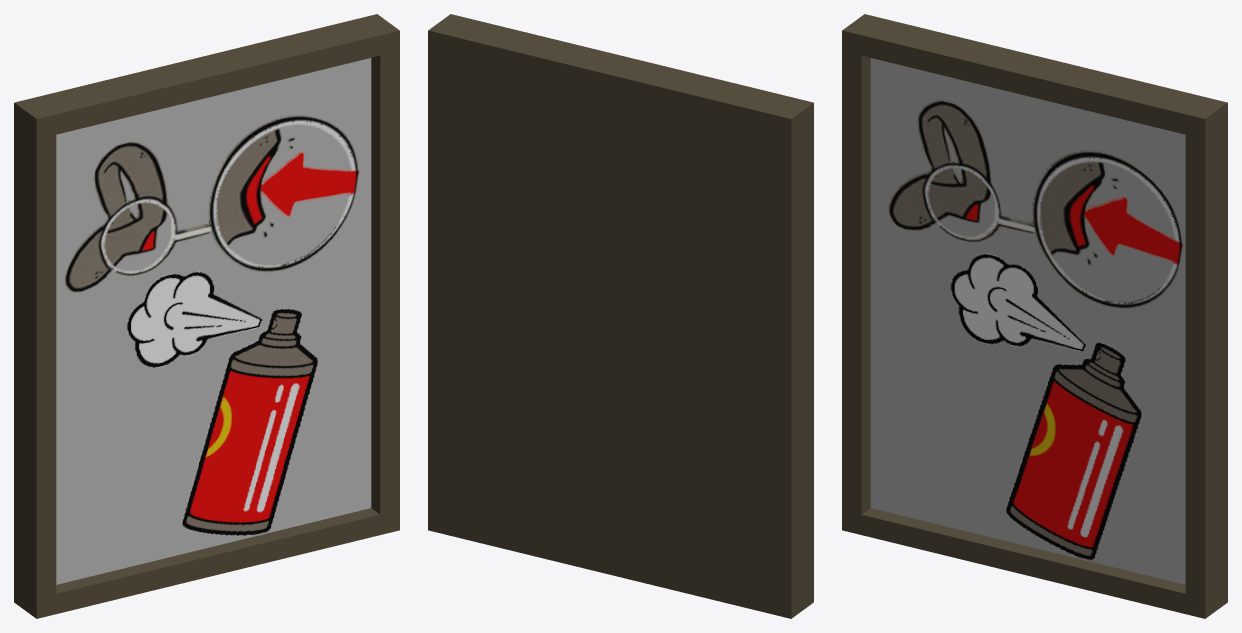
Rendered from instruction_board.fbx.
3 renders of one model, left to right at view 1: azimuth 30°, elevation 25°; view 2: azimuth 150°, elevation 25°; view 3: azimuth 330°, elevation 25°, orthographic.
Visible parts, largest first — view 1: Cube; view 2: Cube; view 3: Cube.
Part boxes in pixels (x1,y1,x2,y2): Cube: (14,14,399,618); Cube: (428,14,813,618); Cube: (842,14,1227,618).
Bounding box in the file's own units: 2.57 × 3.39 × 0.2771.
2 materials, 1 textured.
